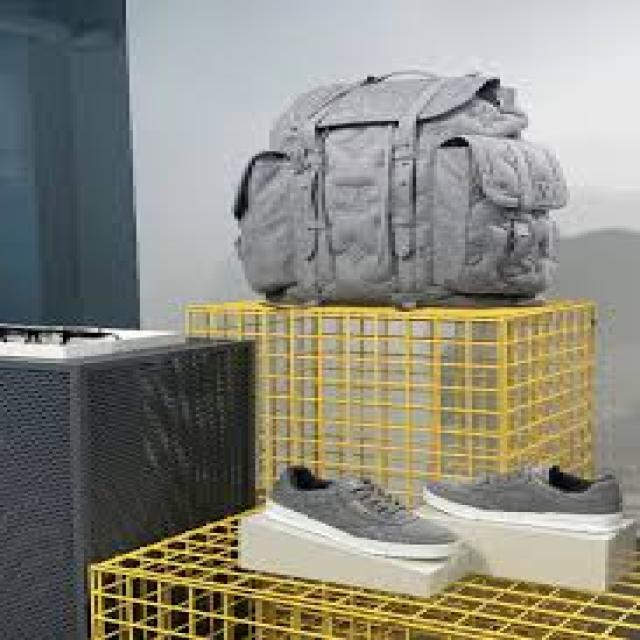backpack: (231, 68, 566, 307)
